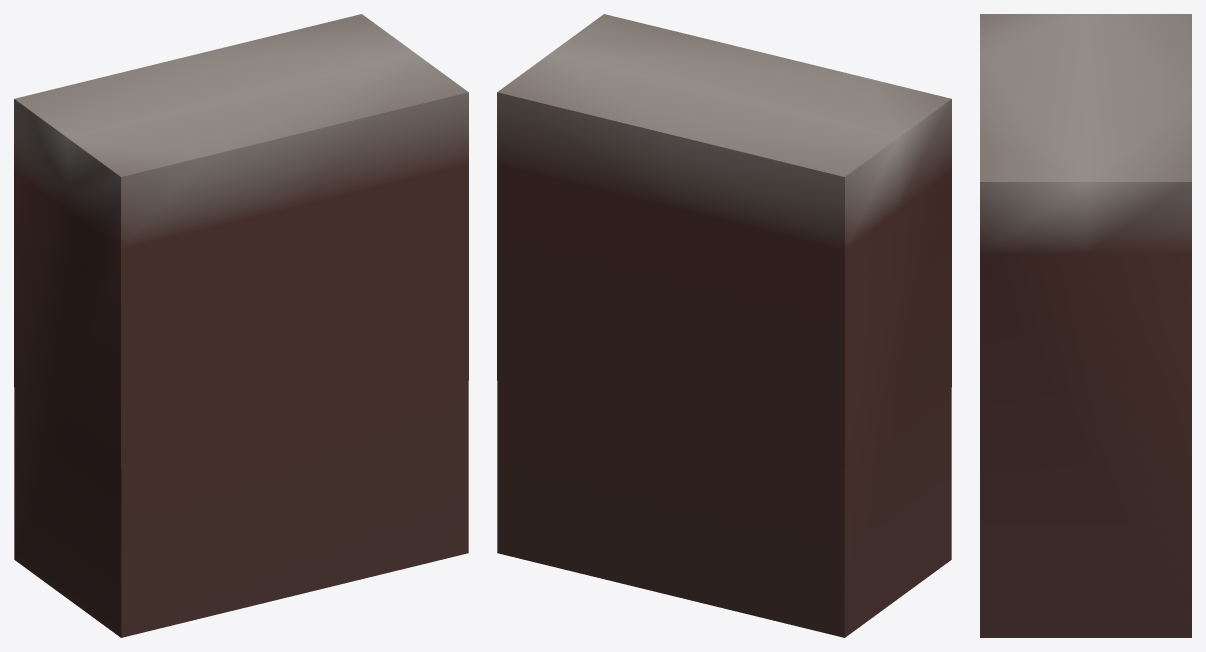
Rendered from tru_lan_can_ha_long.far.glb.
3 renders of one model, left to right at view 1: azimuth 30°, elevation 25°; view 2: azimuth 150°, elevation 25°; view 3: azimuth 270°, elevation 25°, orthographic.
Visible parts, largest first — view 1: drawing; view 2: drawing; view 3: drawing.
Boxes of the visible parts, x1,y1,x2,y2 form: drawing: [14, 14, 468, 637]; drawing: [497, 14, 951, 637]; drawing: [980, 14, 1191, 637].
Size of the model in its own units: 0.75 by 0.95 by 0.4.
